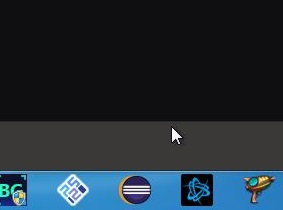cursor: (169, 124, 184, 147)
